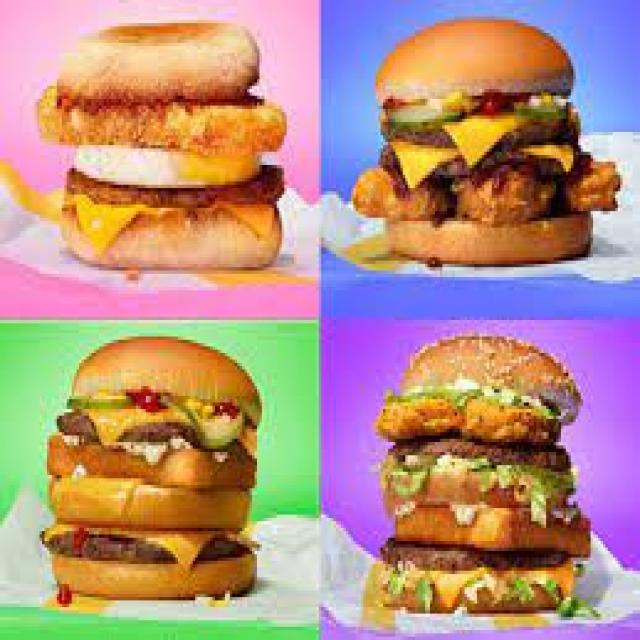햄버거: (364, 18, 612, 298), (381, 338, 596, 639), (50, 338, 266, 612), (53, 41, 286, 289)
